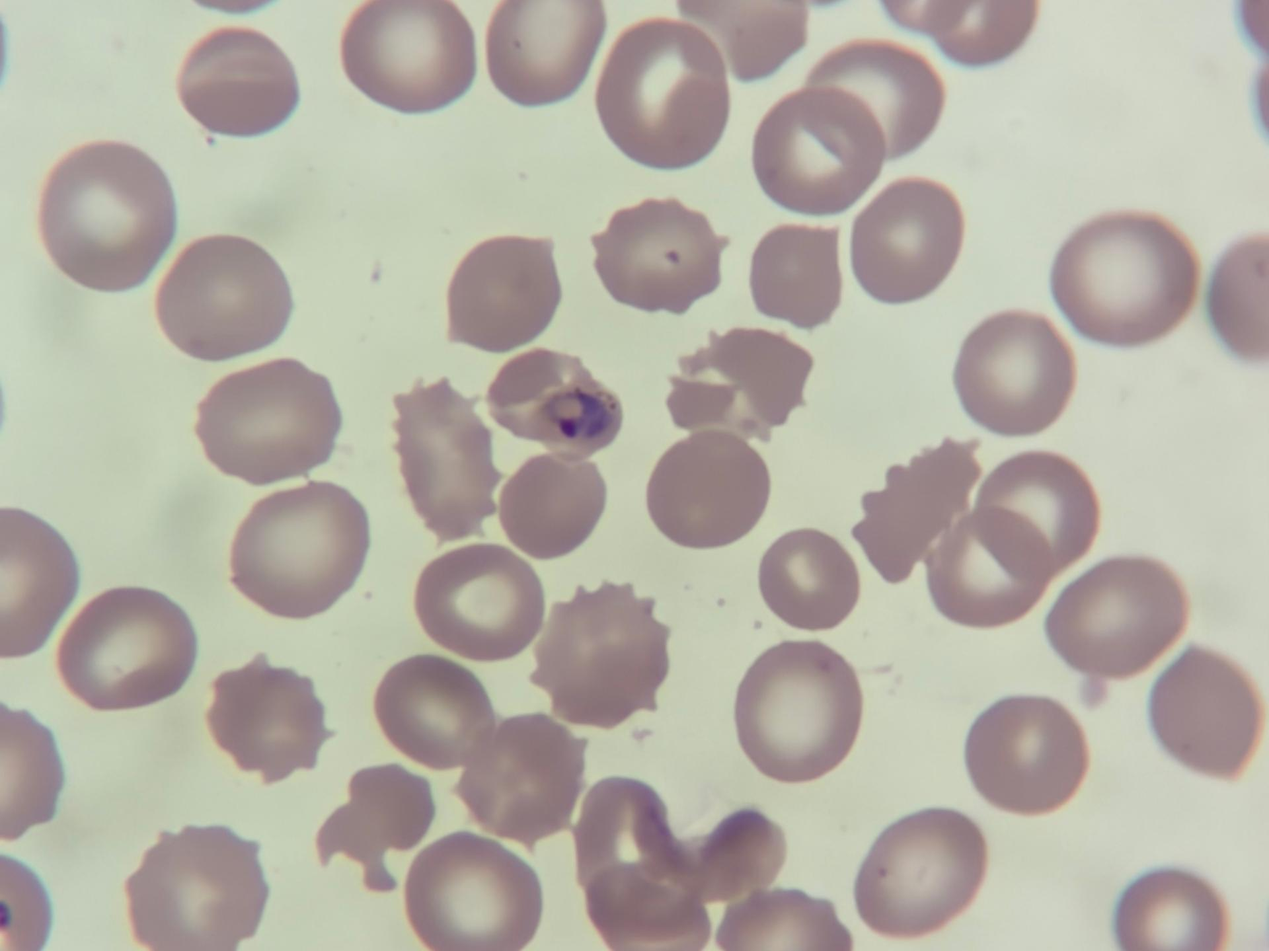Infected: (486, 346, 619, 456)
Uninfected: (593, 19, 728, 168), (40, 141, 176, 287), (1051, 211, 1196, 343), (529, 584, 666, 722), (849, 437, 981, 580), (192, 359, 338, 484), (228, 484, 367, 615), (390, 376, 502, 538), (733, 643, 861, 780), (156, 235, 292, 360), (805, 41, 943, 164), (853, 810, 985, 938), (125, 826, 262, 948), (56, 588, 193, 710), (457, 714, 584, 844), (1048, 556, 1183, 677), (753, 88, 882, 213), (670, 325, 811, 439), (973, 454, 1100, 578), (403, 835, 541, 949), (1147, 645, 1263, 779), (926, 509, 1054, 626), (414, 544, 543, 660), (595, 199, 727, 312), (315, 765, 434, 890), (341, 1, 475, 112), (206, 658, 328, 779), (645, 430, 769, 549), (953, 313, 1073, 432), (964, 696, 1085, 814), (849, 178, 963, 300), (178, 24, 301, 137), (374, 656, 492, 769), (445, 235, 560, 350), (574, 777, 687, 891), (485, 1, 601, 106), (496, 452, 606, 558), (758, 529, 859, 630), (749, 222, 845, 327), (691, 808, 786, 906)
